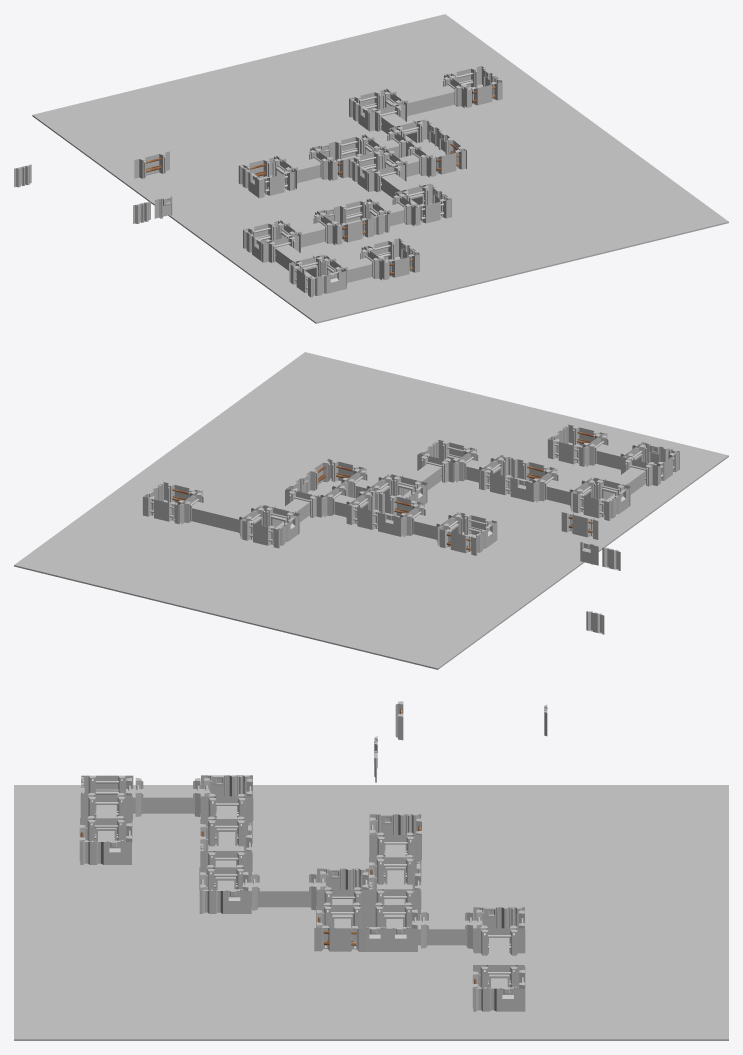
Rendered from Level2FBX.fbx.
3 renders of one model, top to bottom at view 1: azimuth 30°, elevation 25°; view 2: azimuth 150°, elevation 25°; view 3: azimuth 270°, elevation 25°, orthographic. The views are drawn at different scales.
Visible parts, largest first — view 1: pasted__pasted__pCube2, pasted__pasted__pCube3 (×2), pasted__polySurface2 (×2), pasted__pasted__pasted__pasted__pCube3 (×2), polySurface2, polySurface145, pasted__pasted__polySurface53, polySurface256, polySurface260, pasted__pCube3, pasted__pasted__pasted__pCube3, polySurface6 (+1 smaller); view 2: pasted__pasted__pCube2, pasted__pasted__pCube3 (×2), pasted__pasted__pasted__pasted__pCube3 (×2), polySurface2, pasted__polySurface6, polySurface6, pasted__pasted__polySurface2, pasted__polySurface53, polySurface221, polySurface69, pasted__pasted__polySurface53, pasted__pCube3 (+1 smaller); view 3: pasted__pasted__pCube2, pasted__pasted__pCube3 (×3), pasted__pCube3, pasted__polySurface33 (×2), pasted__polySurface2, polySurface232, polySurface131, pasted__pasted__polySurface40, polySurface80, polySurface107, pasted__pasted__polySurface33, polySurface33 (+13 smaller).
Part boxes in pixels (x1,y1,x2,y2): pasted__pasted__pCube2: [32, 14, 728, 323]; pasted__pasted__pCube3 (×2): [275, 85, 454, 277]; pasted__polySurface2 (×2): [337, 150, 466, 244]; pasted__pasted__pasted__pasted__pCube3 (×2): [276, 158, 371, 282]; polySurface2: [134, 151, 169, 178]; polySurface145: [415, 199, 451, 225]; pasted__pasted__polySurface53: [259, 171, 295, 198]; polySurface256: [384, 254, 419, 280]; polySurface260: [467, 82, 502, 107]; pasted__pCube3: [381, 173, 423, 204]; pasted__pasted__pasted__pCube3: [280, 222, 325, 247]; polySurface6: [335, 198, 370, 224]; pasted__pasted__pCube2: [14, 352, 728, 669]; pasted__pasted__pCube3 (×2): [192, 467, 645, 532]; pasted__pasted__pasted__pasted__pCube3 (×2): [414, 444, 642, 539]; polySurface2: [561, 512, 598, 539]; pasted__polySurface6: [346, 504, 382, 532]; polySurface6: [479, 470, 515, 497]; pasted__pasted__polySurface2: [439, 529, 476, 555]; pasted__polySurface53: [548, 439, 584, 466]; polySurface221: [242, 520, 278, 548]; polySurface69: [573, 493, 609, 520]; pasted__pasted__polySurface53: [143, 496, 179, 524]; pasted__pCube3: [398, 463, 441, 496]; pasted__pasted__pCube2: [14, 785, 728, 1040]; pasted__pasted__pCube3 (×3): [126, 789, 509, 988]; pasted__pCube3: [243, 882, 325, 907]; pasted__polySurface33 (×2): [316, 858, 421, 928]; pasted__polySurface2: [314, 925, 365, 951]; polySurface232: [473, 929, 525, 955]; polySurface131: [81, 796, 132, 820]; pasted__pasted__polySurface40: [370, 836, 421, 860]; polySurface80: [201, 798, 253, 820]; polySurface107: [81, 775, 133, 795]; pasted__pasted__polySurface33: [368, 906, 420, 928]; polySurface33: [200, 820, 252, 846].
Size of the model in its own units: 72.34 by 10.27 by 70.61.
